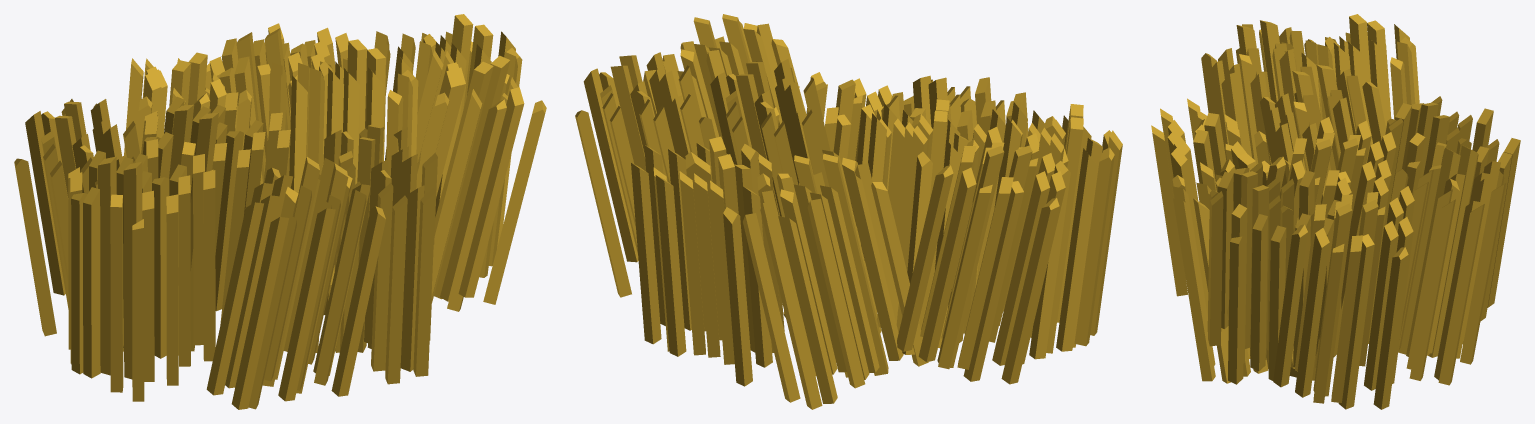
The model's file is potatoo.fbx.
3 renders of one model, left to right at view 1: azimuth 30°, elevation 25°; view 2: azimuth 150°, elevation 25°; view 3: azimuth 270°, elevation 25°, orthographic. The views are drawn at different scales.
Parts seen in each view (by area): view 1: Cube.013; view 2: Cube.013; view 3: Cube.013.
Boxes of the visible parts, x1=… form: Cube.013: x1=14, y1=14, x2=546, y2=409; Cube.013: x1=575, y1=14, x2=1122, y2=409; Cube.013: x1=1151, y1=14, x2=1520, y2=409.
Bounding box in the file's own units: 53.17 × 28.44 × 38.27.
